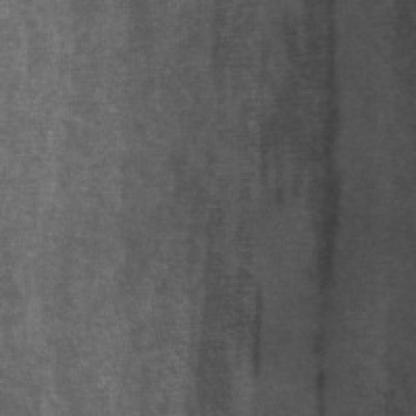inclusion: (285, 14, 360, 414), (244, 264, 276, 389)
